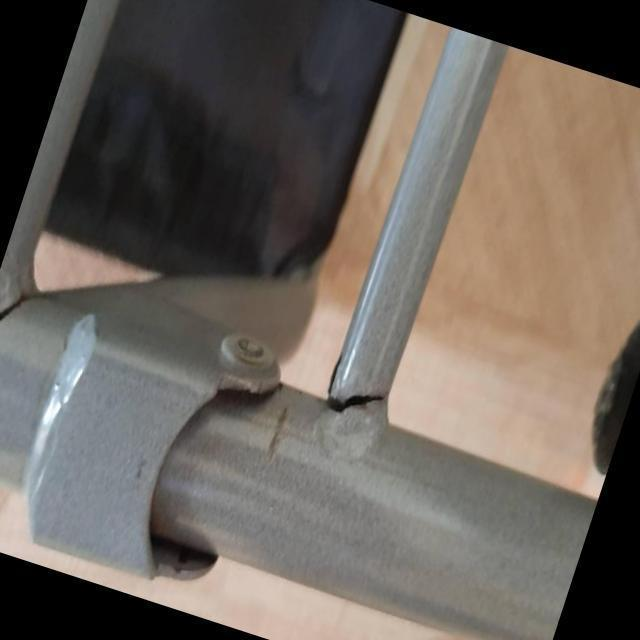defect: (322, 344, 389, 417)
